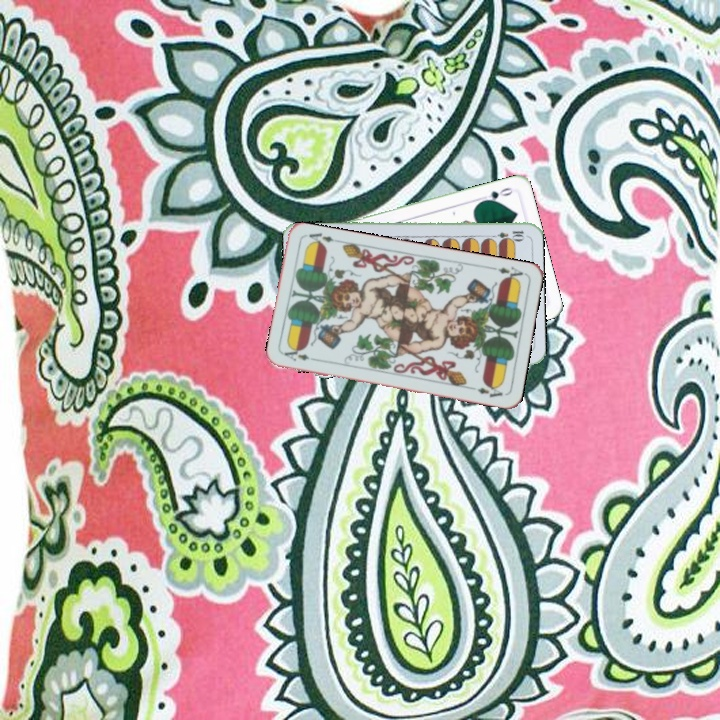E10: (486, 227, 527, 241)
EA: (487, 262, 527, 284), (280, 347, 321, 364)
GO: (476, 183, 515, 205)
